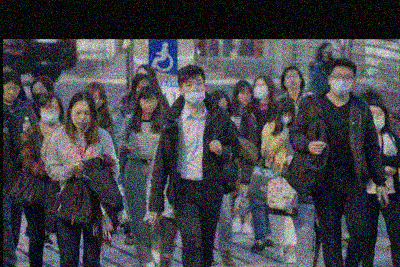mask_weared_incorrect: (184, 79, 206, 106), (39, 102, 62, 127), (369, 109, 388, 130)
with_mask: (330, 72, 355, 98), (252, 82, 271, 102), (30, 86, 50, 104), (281, 112, 294, 126)
without_mask: (71, 107, 93, 130), (4, 84, 22, 103), (284, 72, 303, 90), (236, 89, 253, 106), (140, 97, 158, 113), (90, 94, 105, 110)
